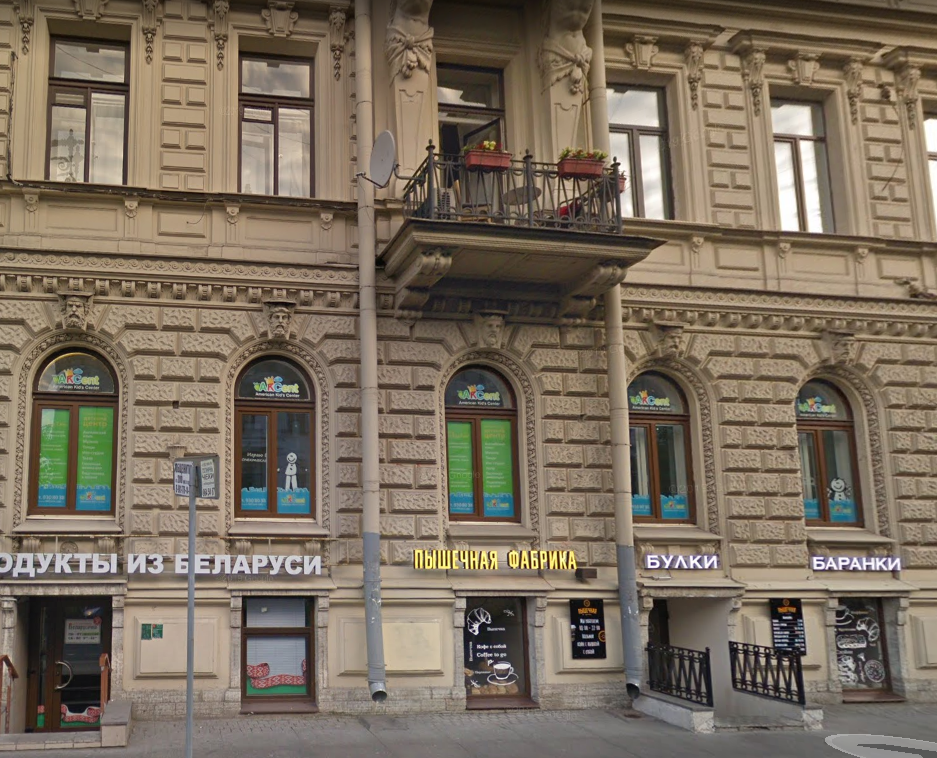door: (30, 601, 107, 729)
signboard: (1, 553, 326, 579), (411, 542, 576, 581), (808, 552, 898, 578), (643, 550, 719, 573)
window: (29, 339, 119, 521), (232, 344, 318, 519), (793, 367, 873, 532), (445, 354, 522, 524), (623, 359, 701, 525), (43, 37, 130, 185), (239, 57, 315, 197), (605, 75, 676, 220), (766, 93, 837, 235), (240, 594, 311, 710), (438, 64, 509, 164), (469, 595, 529, 707), (837, 600, 890, 693)
